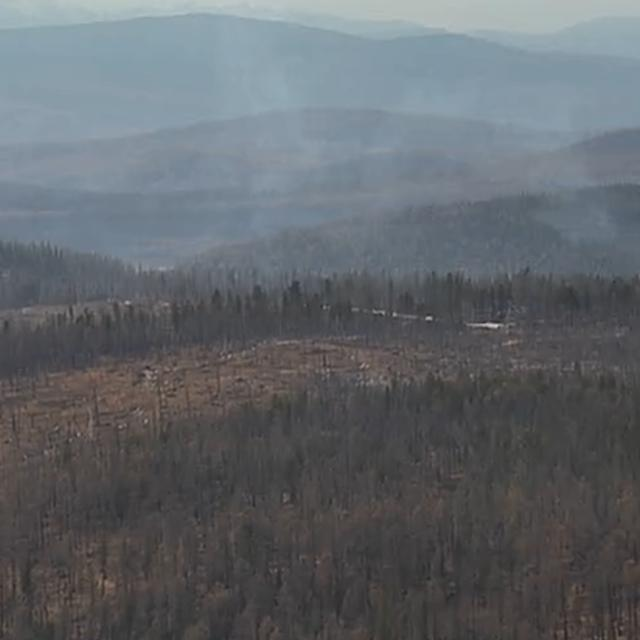Smoke: (0, 49, 640, 325)
